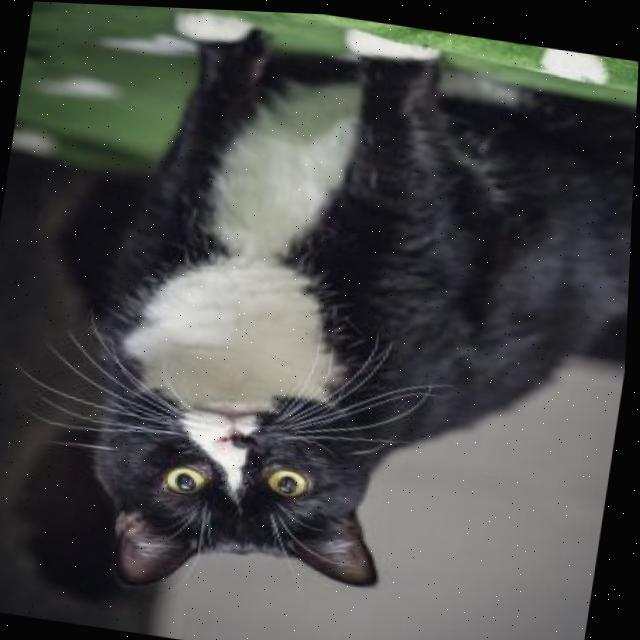Tuxedo: (52, 3, 640, 640)
